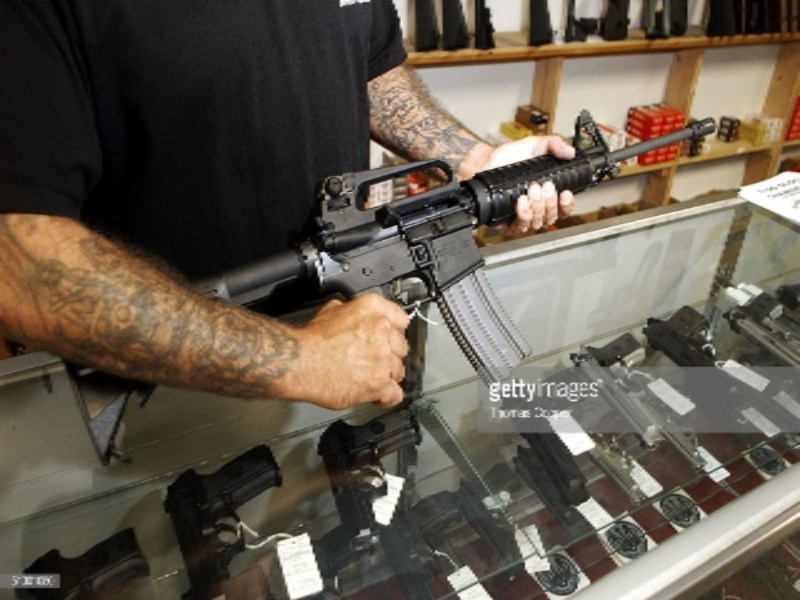person: (1, 1, 572, 409)
weapon: (61, 110, 716, 465), (163, 446, 285, 599), (317, 413, 422, 551), (571, 334, 663, 450), (454, 464, 529, 568), (581, 410, 643, 502), (721, 292, 800, 364), (643, 305, 716, 367)
